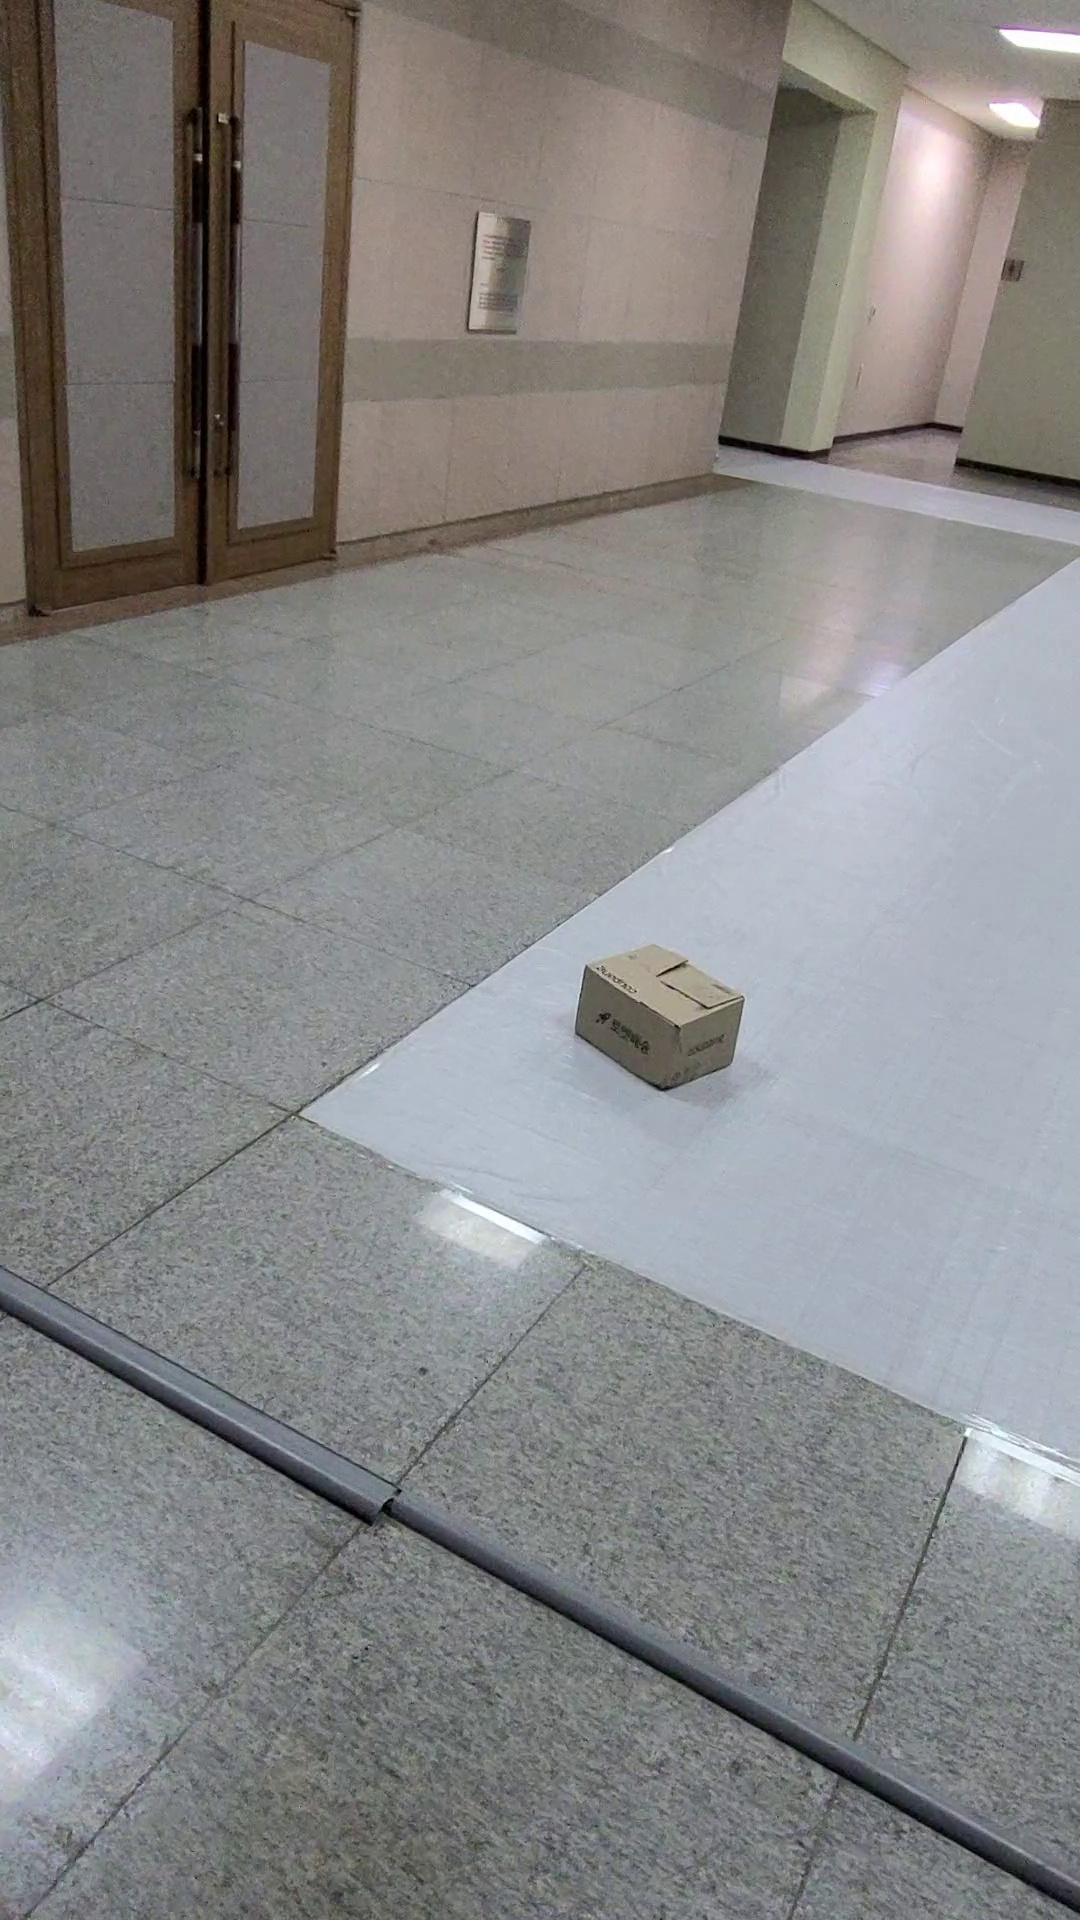Box: (558, 903, 764, 1130)
